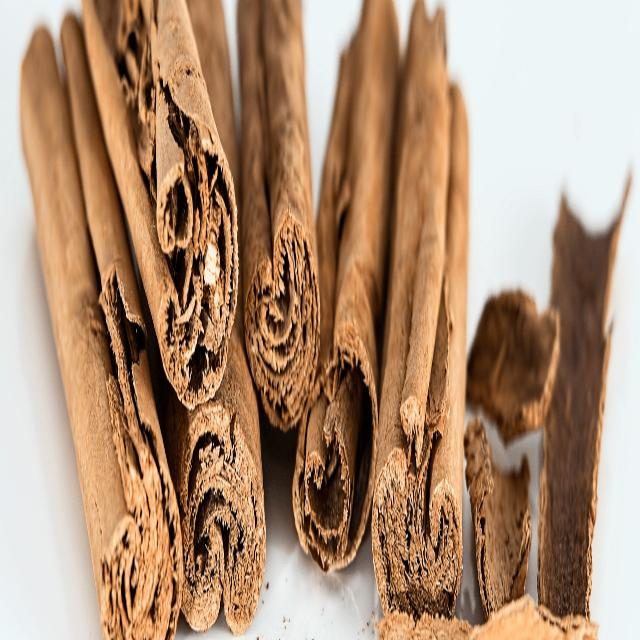Cinnamon: (21, 16, 182, 636), (20, 28, 134, 634), (292, 0, 399, 570), (372, 0, 469, 616), (116, 0, 238, 408), (82, 0, 198, 408), (538, 176, 631, 614), (238, 0, 320, 432), (165, 328, 266, 632), (61, 16, 146, 342), (466, 292, 560, 444), (188, 0, 241, 260), (464, 420, 531, 620), (156, 80, 194, 256)
